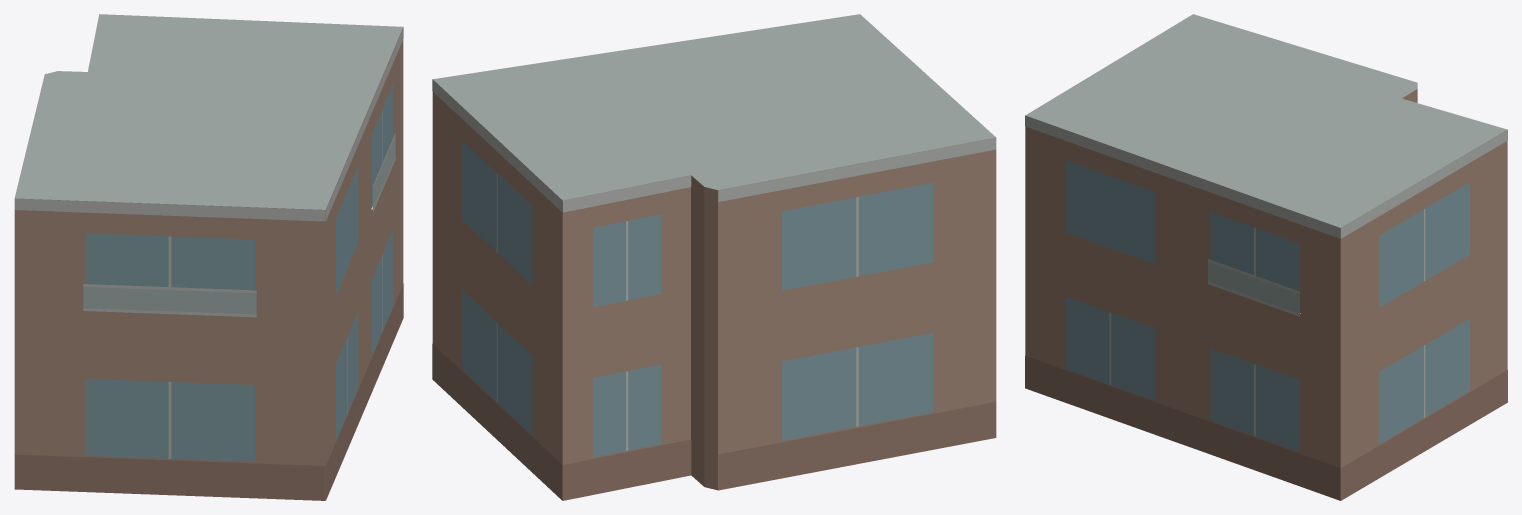
File: survey-upis-32564169.glb
3 renders of one model, left to right at view 1: azimuth 30°, elevation 25°; view 2: azimuth 150°, elevation 25°; view 3: azimuth 270°, elevation 25°, orthographic. The views are drawn at different scales.
Parts seen in each view (by area): view 1: survey-upis-32564169.tmp; view 2: survey-upis-32564169.tmp; view 3: survey-upis-32564169.tmp.
Part boxes in pixels (<box>): survey-upis-32564169.tmp: <box>14,14,403,500</box>; survey-upis-32564169.tmp: <box>432,14,996,500</box>; survey-upis-32564169.tmp: <box>1025,14,1507,500</box>.
Bounding box in the file's own units: 10.27 × 6.1 × 9.79.
